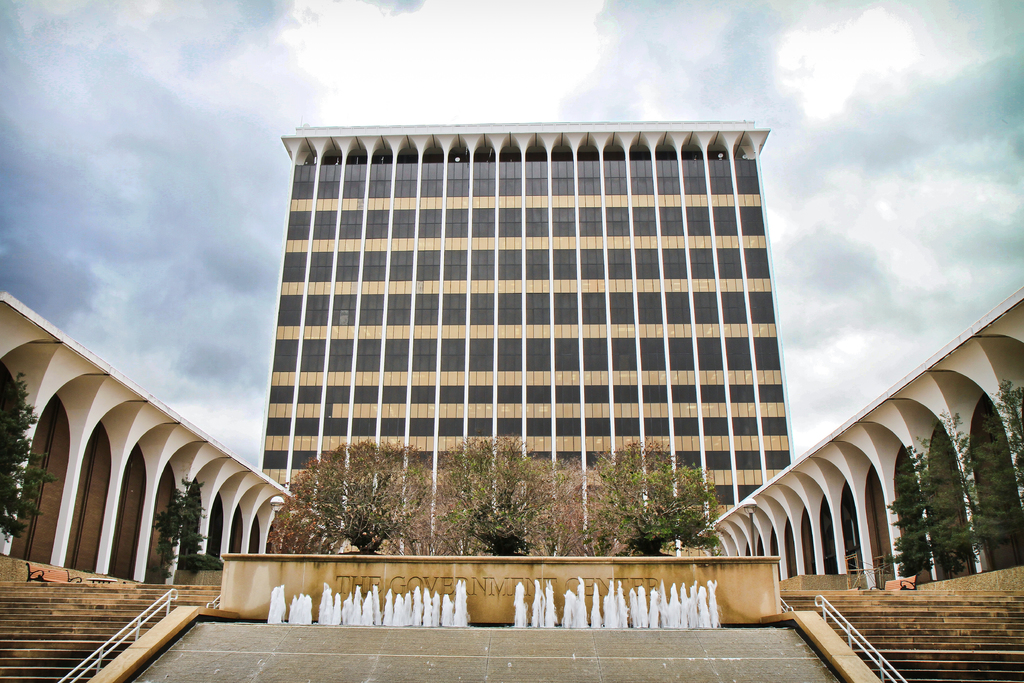Tree: (894, 367, 1023, 579), (263, 452, 446, 566), (436, 424, 577, 556), (582, 431, 723, 563), (0, 359, 49, 549), (146, 472, 224, 577)
